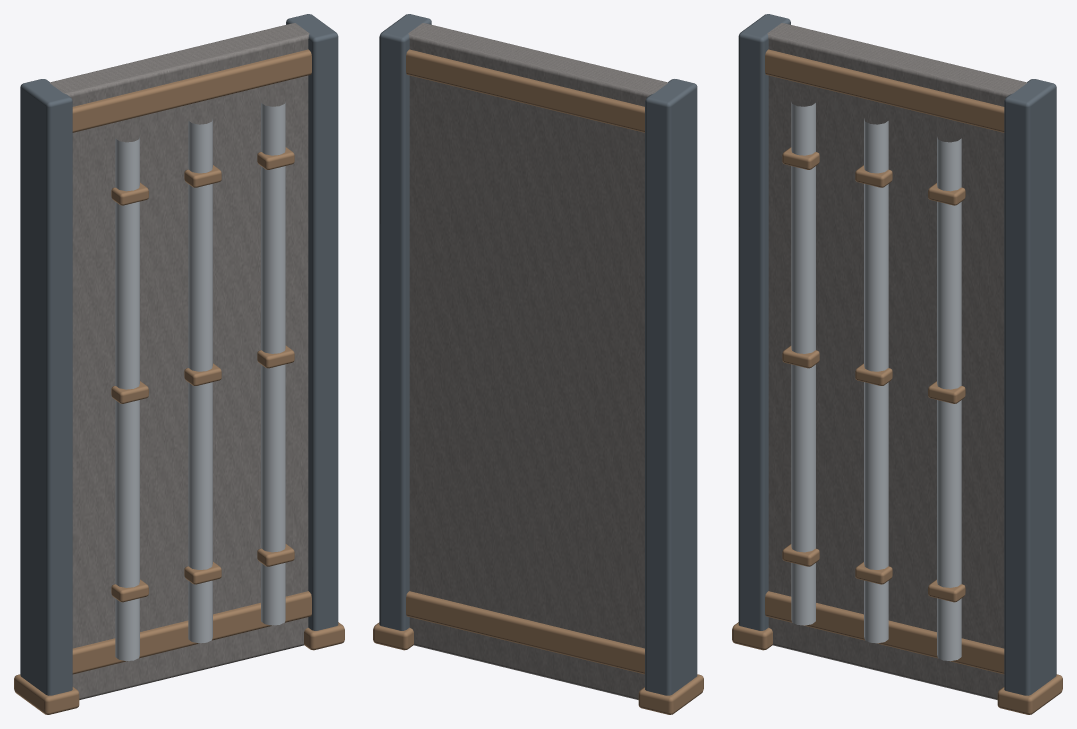
Rendered from arena-shooter-map-kit-tech-wall-conduits-3b2cff1c__23072.glb.
3 renders of one model, left to right at view 1: azimuth 30°, elevation 25°; view 2: azimuth 150°, elevation 25°; view 3: azimuth 330°, elevation 25°, orthographic.
Parts seen in each view (by area): view 1: tech-wall-conduits; view 2: tech-wall-conduits; view 3: tech-wall-conduits.
Boxes of the visible parts, box(x1,y1,x2,y2) form: tech-wall-conduits: box(14, 14, 344, 714); tech-wall-conduits: box(373, 14, 703, 714); tech-wall-conduits: box(732, 14, 1062, 714).
Size of the model in its own units: 2.06 by 4 by 0.5451.
4 materials, 1 textured.
